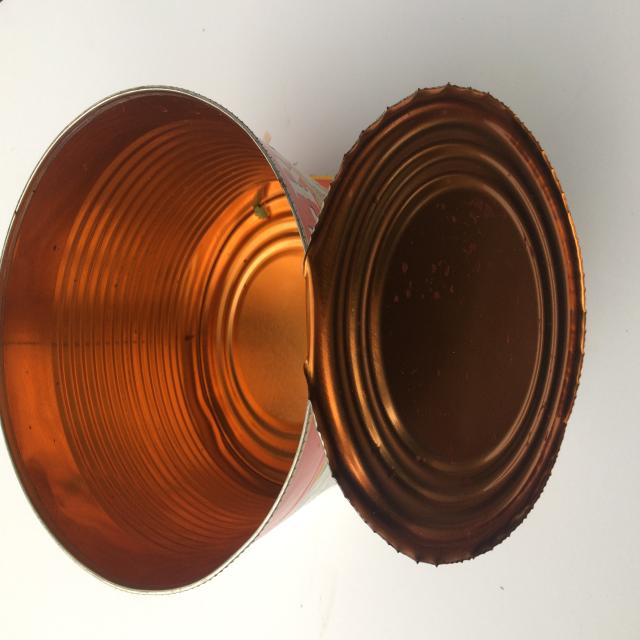metal: (0, 34, 614, 607)
